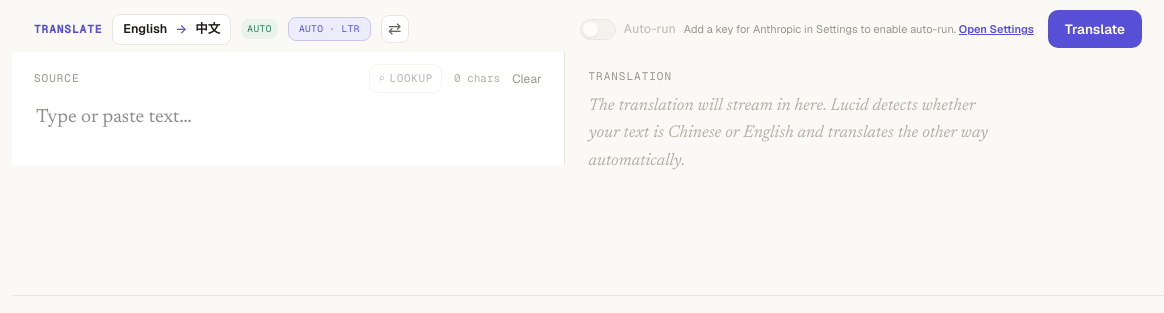
TranslatePanel › Clear empties the source textarea
In the text box named "Source": (288, 129) [12,101,564,158], type "text"
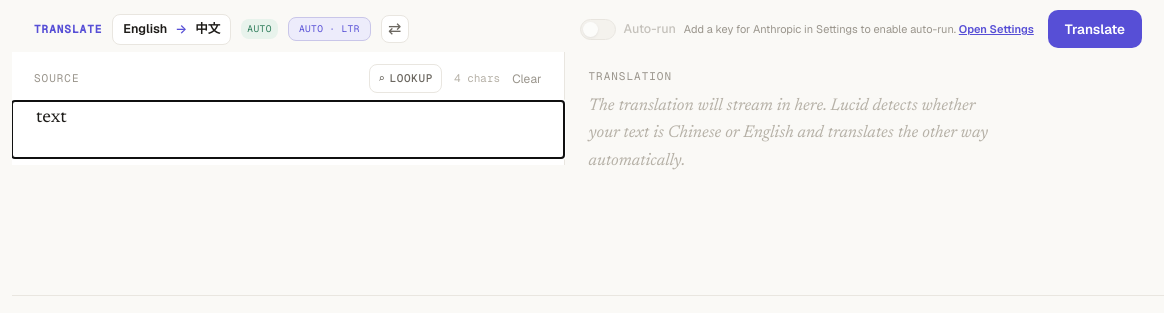
Click the button "Clear": (527, 78) [512,70,542,88]
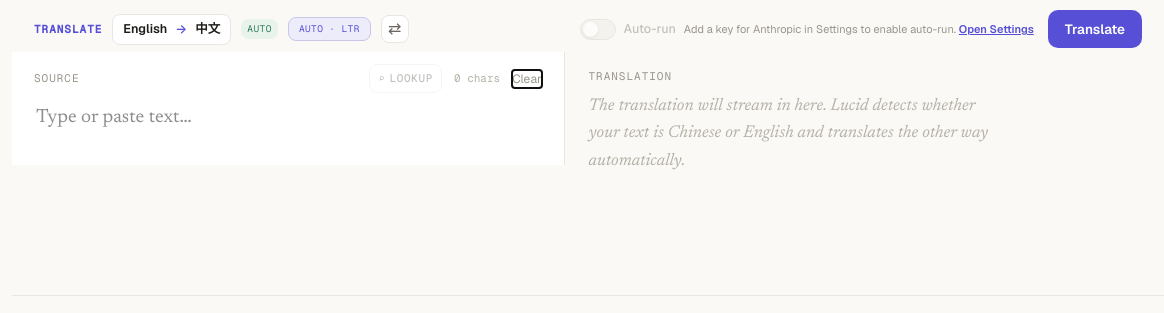
Now the text box named "Source" is empty, box [12,101,564,158]
